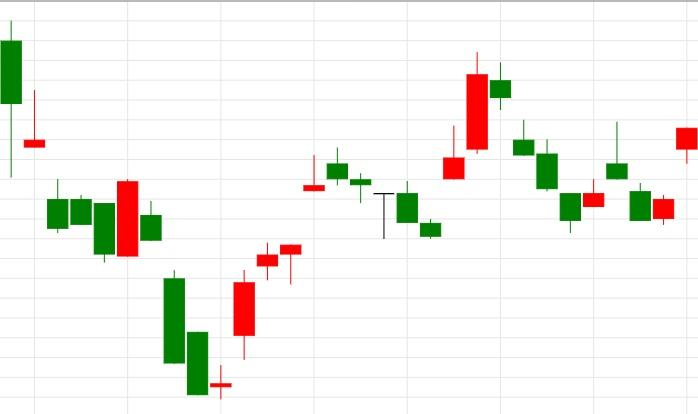three_black_crows_fall: (419, 52, 559, 238)
three_white_soldiers_rise: (117, 178, 279, 399)
